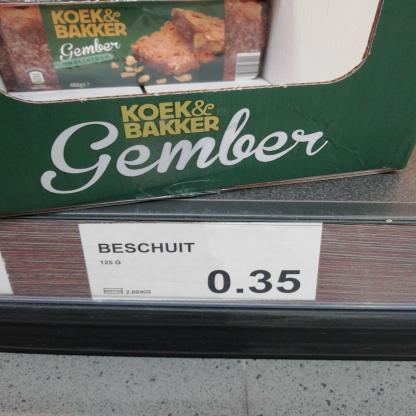prtg: (77, 223, 323, 303)
